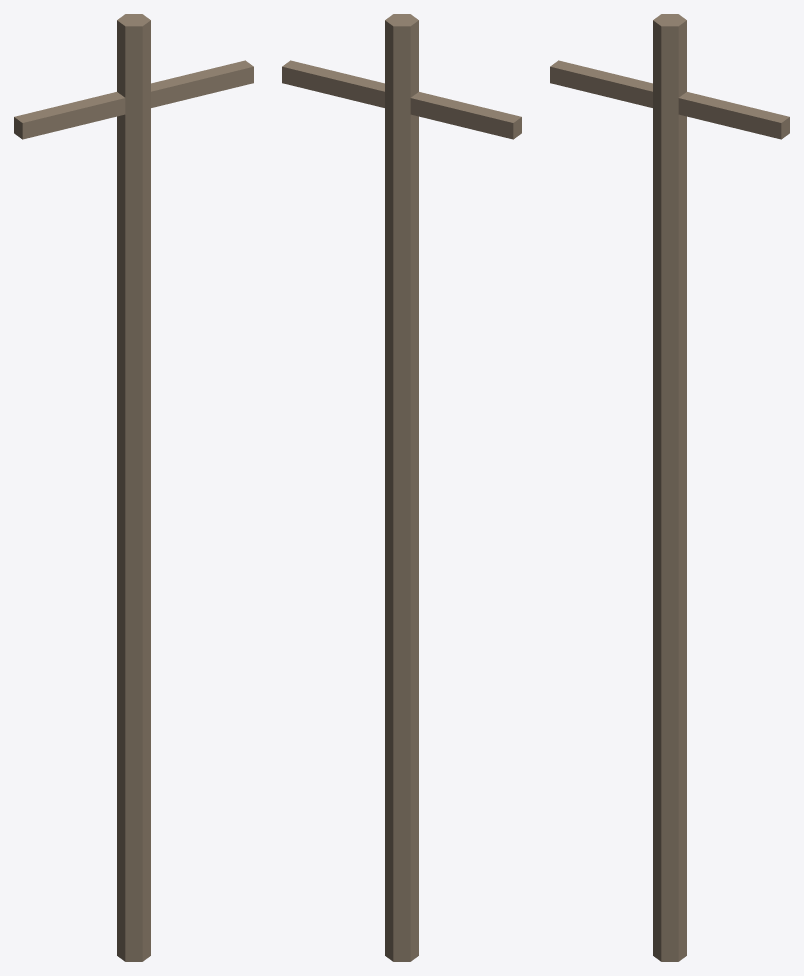
Rendered from kit_pole_lod2.glb.
The picture shows the model from 3 angles, left to right: view 1: azimuth 30°, elevation 25°; view 2: azimuth 150°, elevation 25°; view 3: azimuth 330°, elevation 25°; orthographic projection.
Visible parts, largest first — view 1: pole, crossarm; view 2: pole, crossarm; view 3: pole, crossarm.
Boxes of the visible parts, <box> form: pole: <box>117,14,150,961</box>; crossarm: <box>14,60,253,139</box>; pole: <box>385,14,418,961</box>; crossarm: <box>282,60,521,139</box>; pole: <box>653,14,686,961</box>; crossarm: <box>550,60,789,139</box>.
Size of the model in its own units: 2.2 by 8.5 by 0.28.
